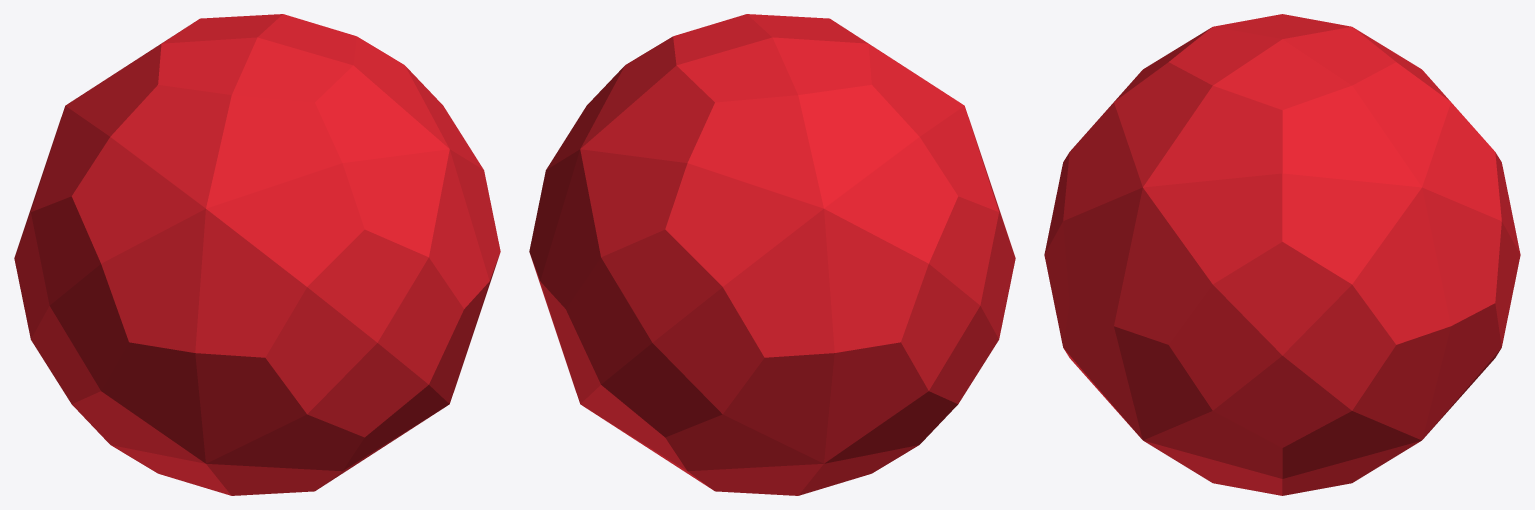
Rendered from Christmas_deko.glb.
The picture shows the model from 3 angles, left to right: view 1: azimuth 30°, elevation 25°; view 2: azimuth 150°, elevation 25°; view 3: azimuth 270°, elevation 25°; orthographic projection.
Visible parts, largest first — view 1: Cube.001; view 2: Cube.001; view 3: Cube.001.
Part boxes in pixels (<box>): Cube.001: <box>14,14,500,495</box>; Cube.001: <box>529,14,1015,495</box>; Cube.001: <box>1044,14,1520,495</box>.
Bounding box in the file's own units: 2.39 × 2.39 × 2.39.
